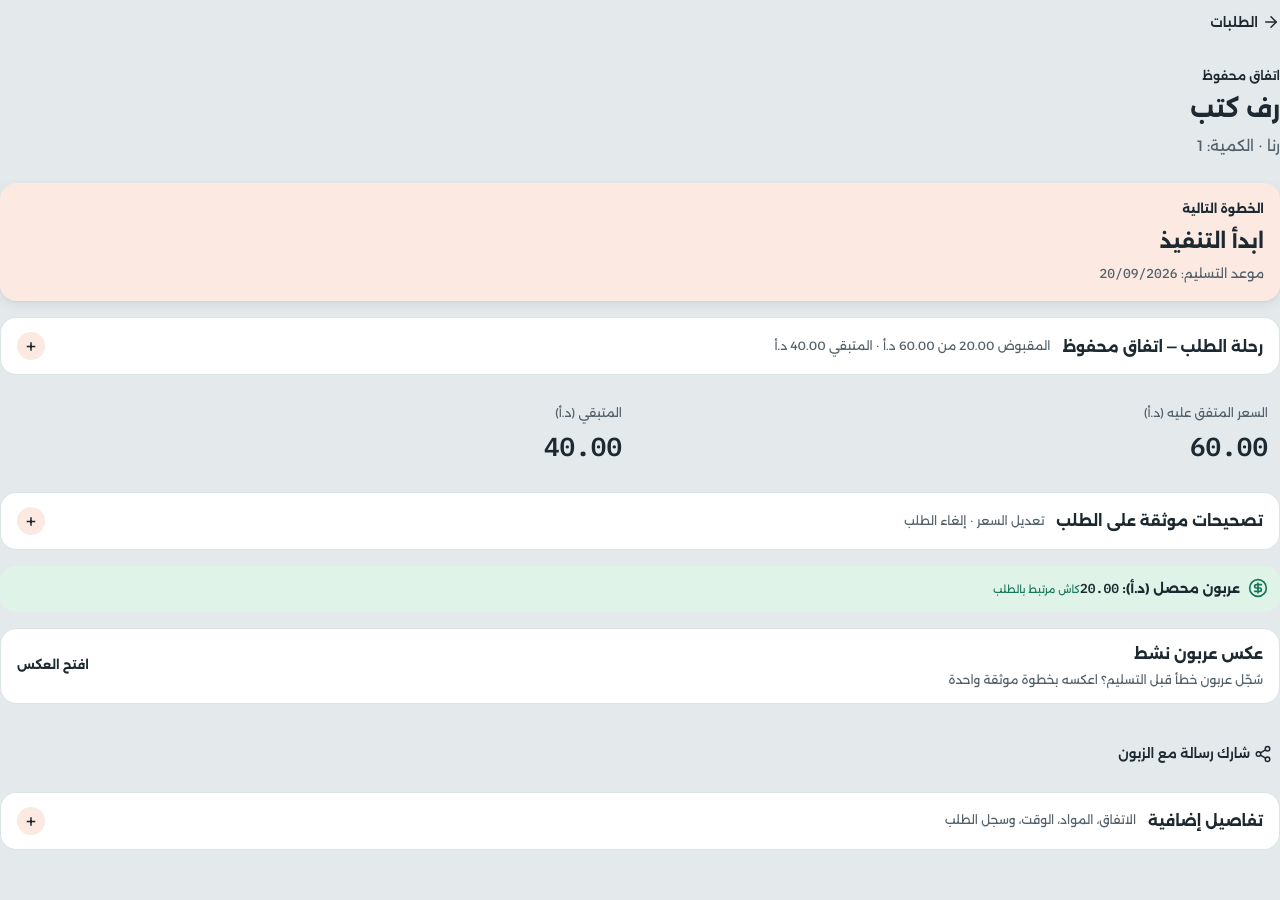
Test: EXE-010 — active deposit reversal surface in OrderDetail › shows the reversal panel pre-delivery, requires a reason, and reverses the standing deposit
The image size is (1280, 900).
Click the text "عكس عربون نشط": (1198, 653) [1134, 644, 1263, 663]
(page scrolled)
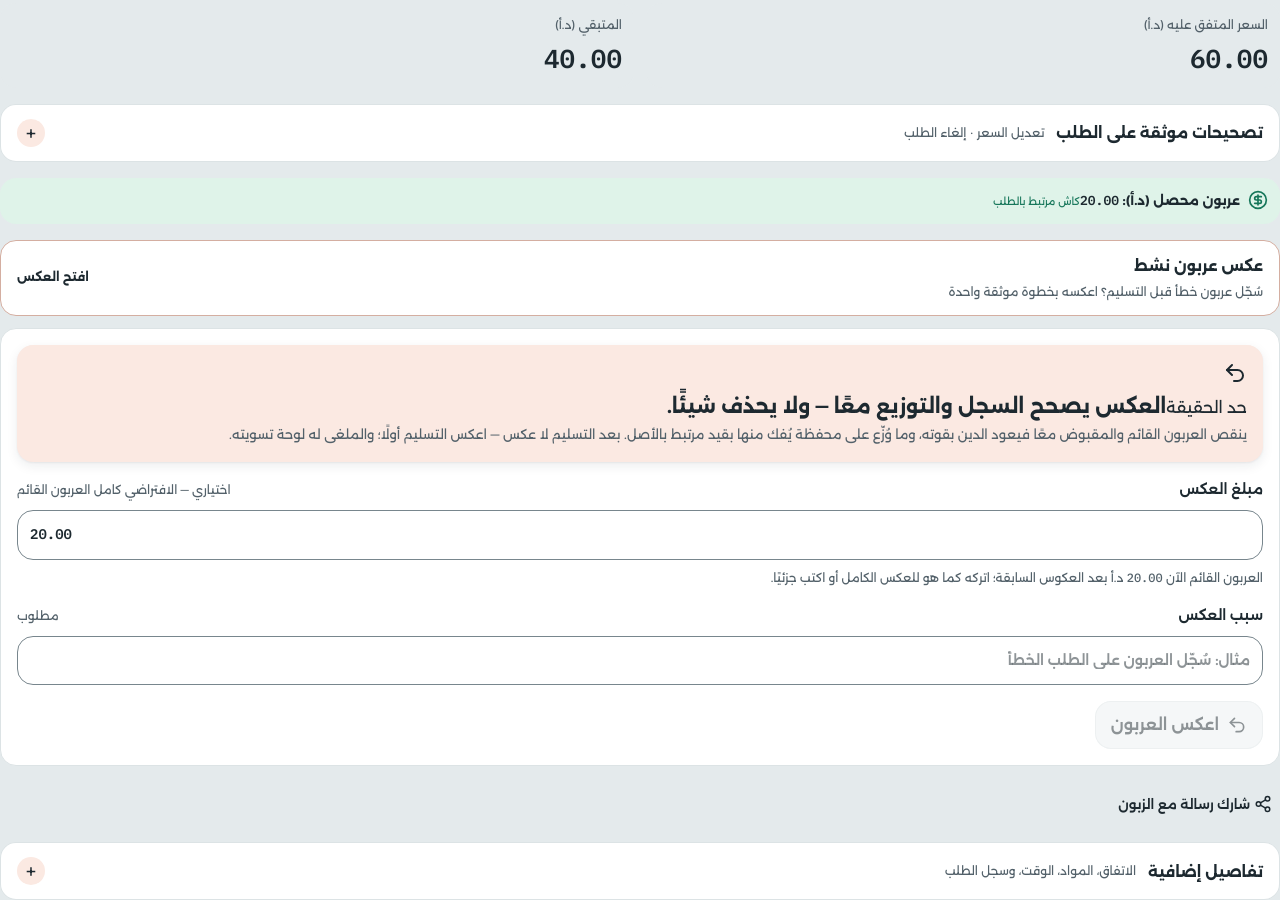
Result: the button "اعكس العربون" is disabled at [1095, 702, 1263, 750]
In the field labelled "سبب العكس مطلوب": (640, 661) [17, 636, 1263, 686], type "العربون سُجل على الطلب الخطأ"
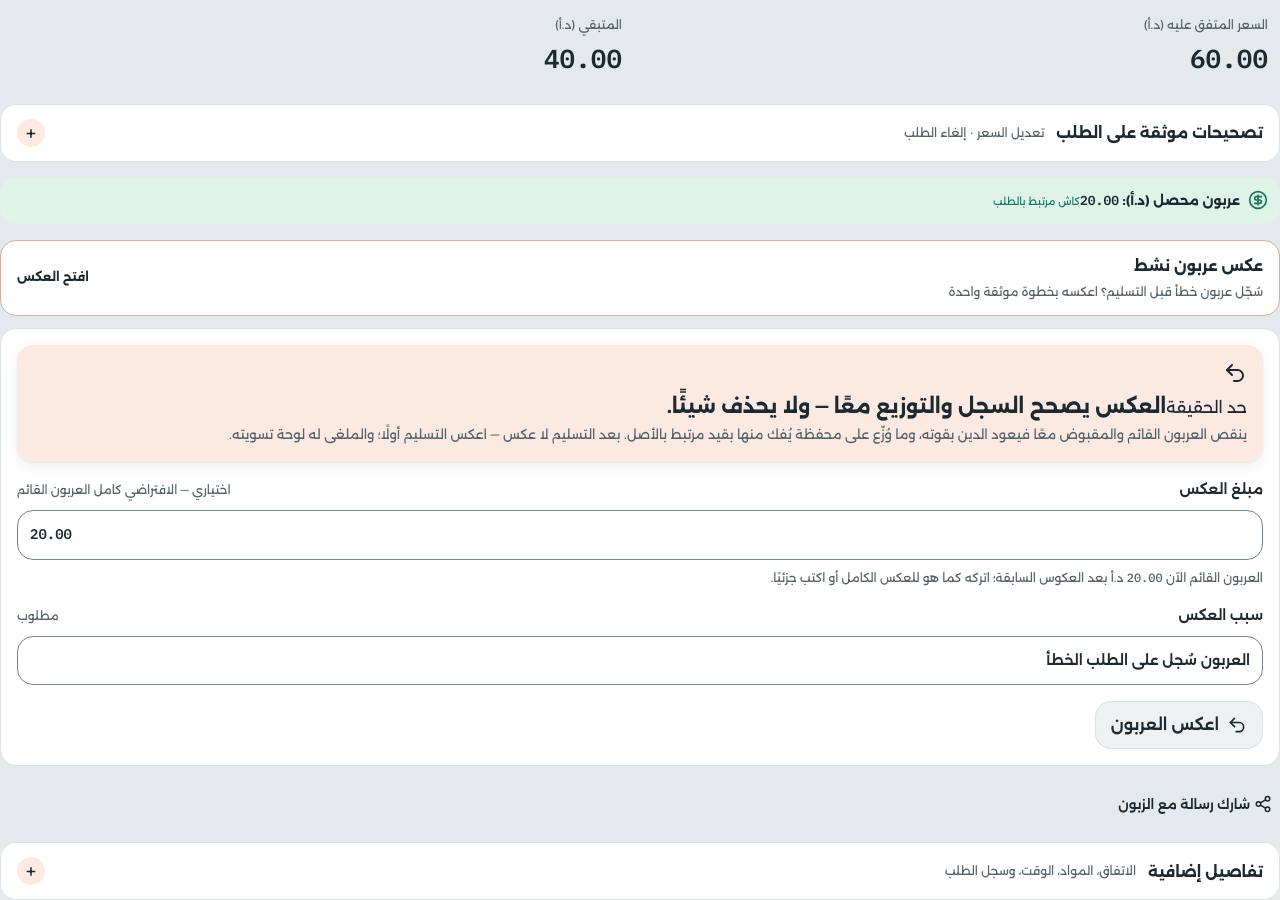
Result: the button "اعكس العربون" is enabled
Click the button "اعكس العربون": (1179, 726) [1095, 702, 1263, 750]
(page scrolled)
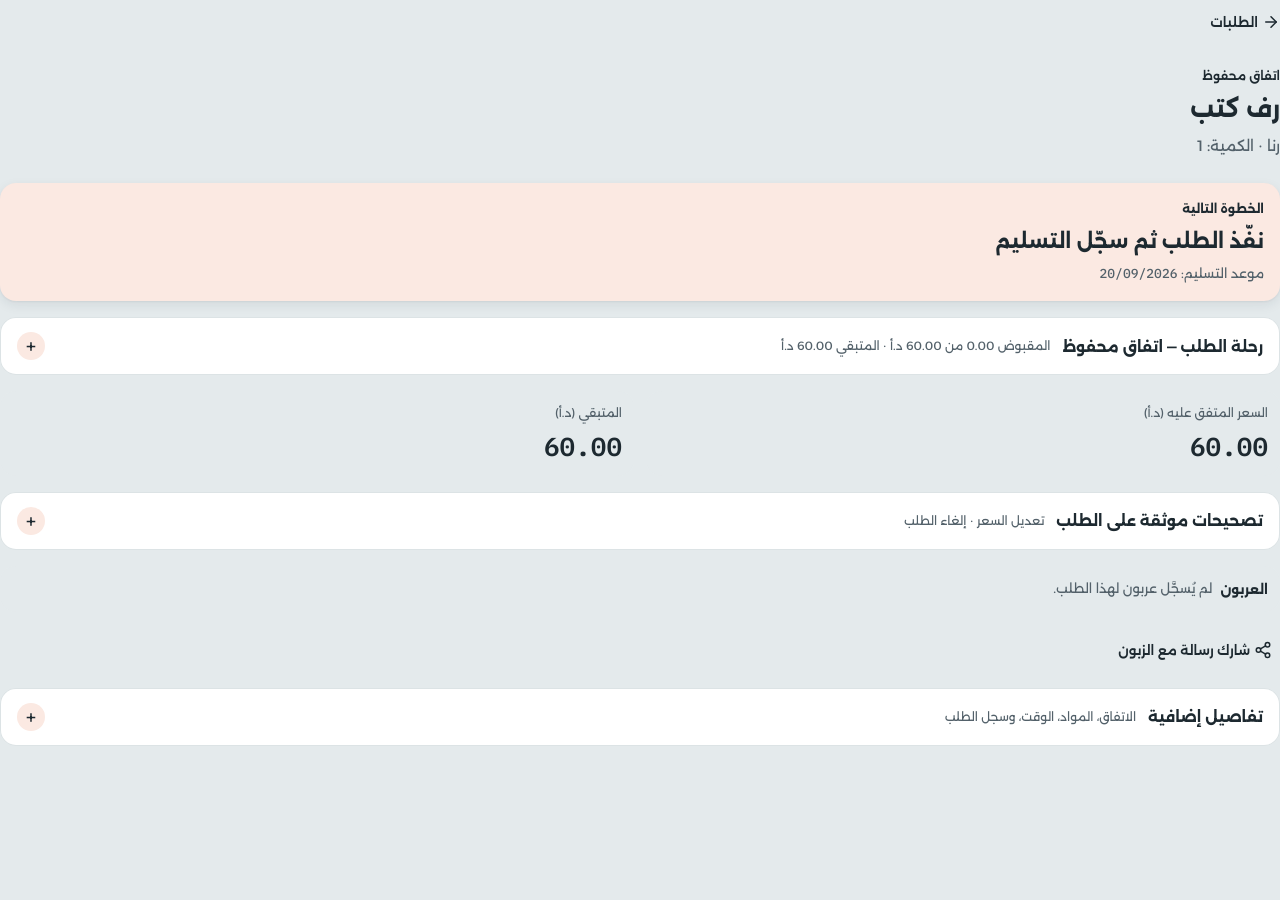
Result: the element with test id "active-deposit-reversal" is gone
